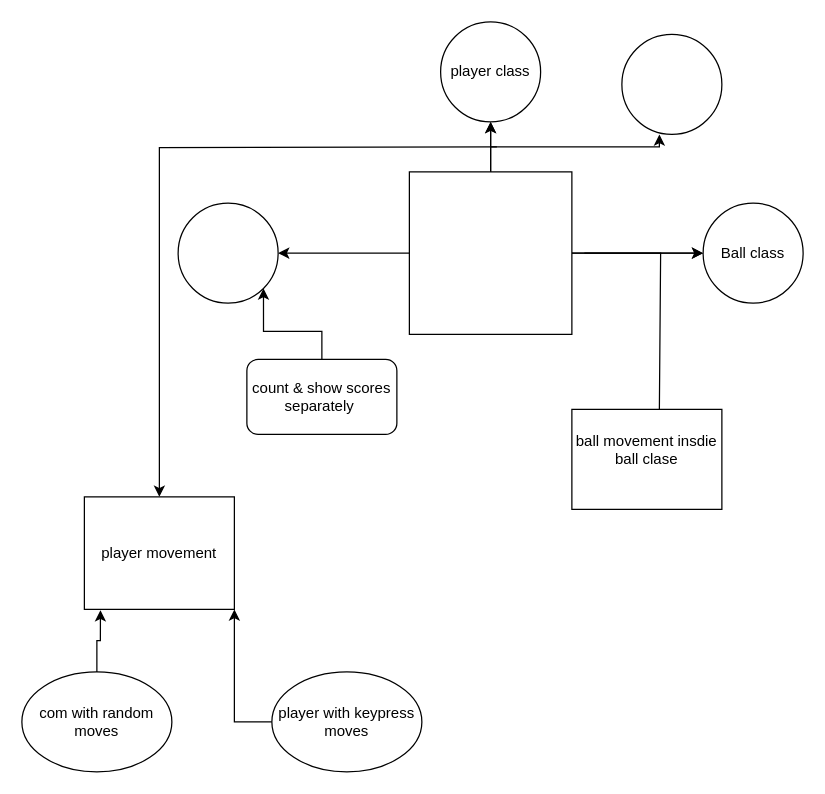
The diagram is 825 pixels wide and 794 high, and some of its shapes have lost their labels. Here are the shapes that lost their labels. From the top down, the centre of each, then its label:
At point 671,83: "middle line inside player when init".
At point 227,252: "score board class".
At point 490,252: "player 1 player 2 ball in center middle line score card".
